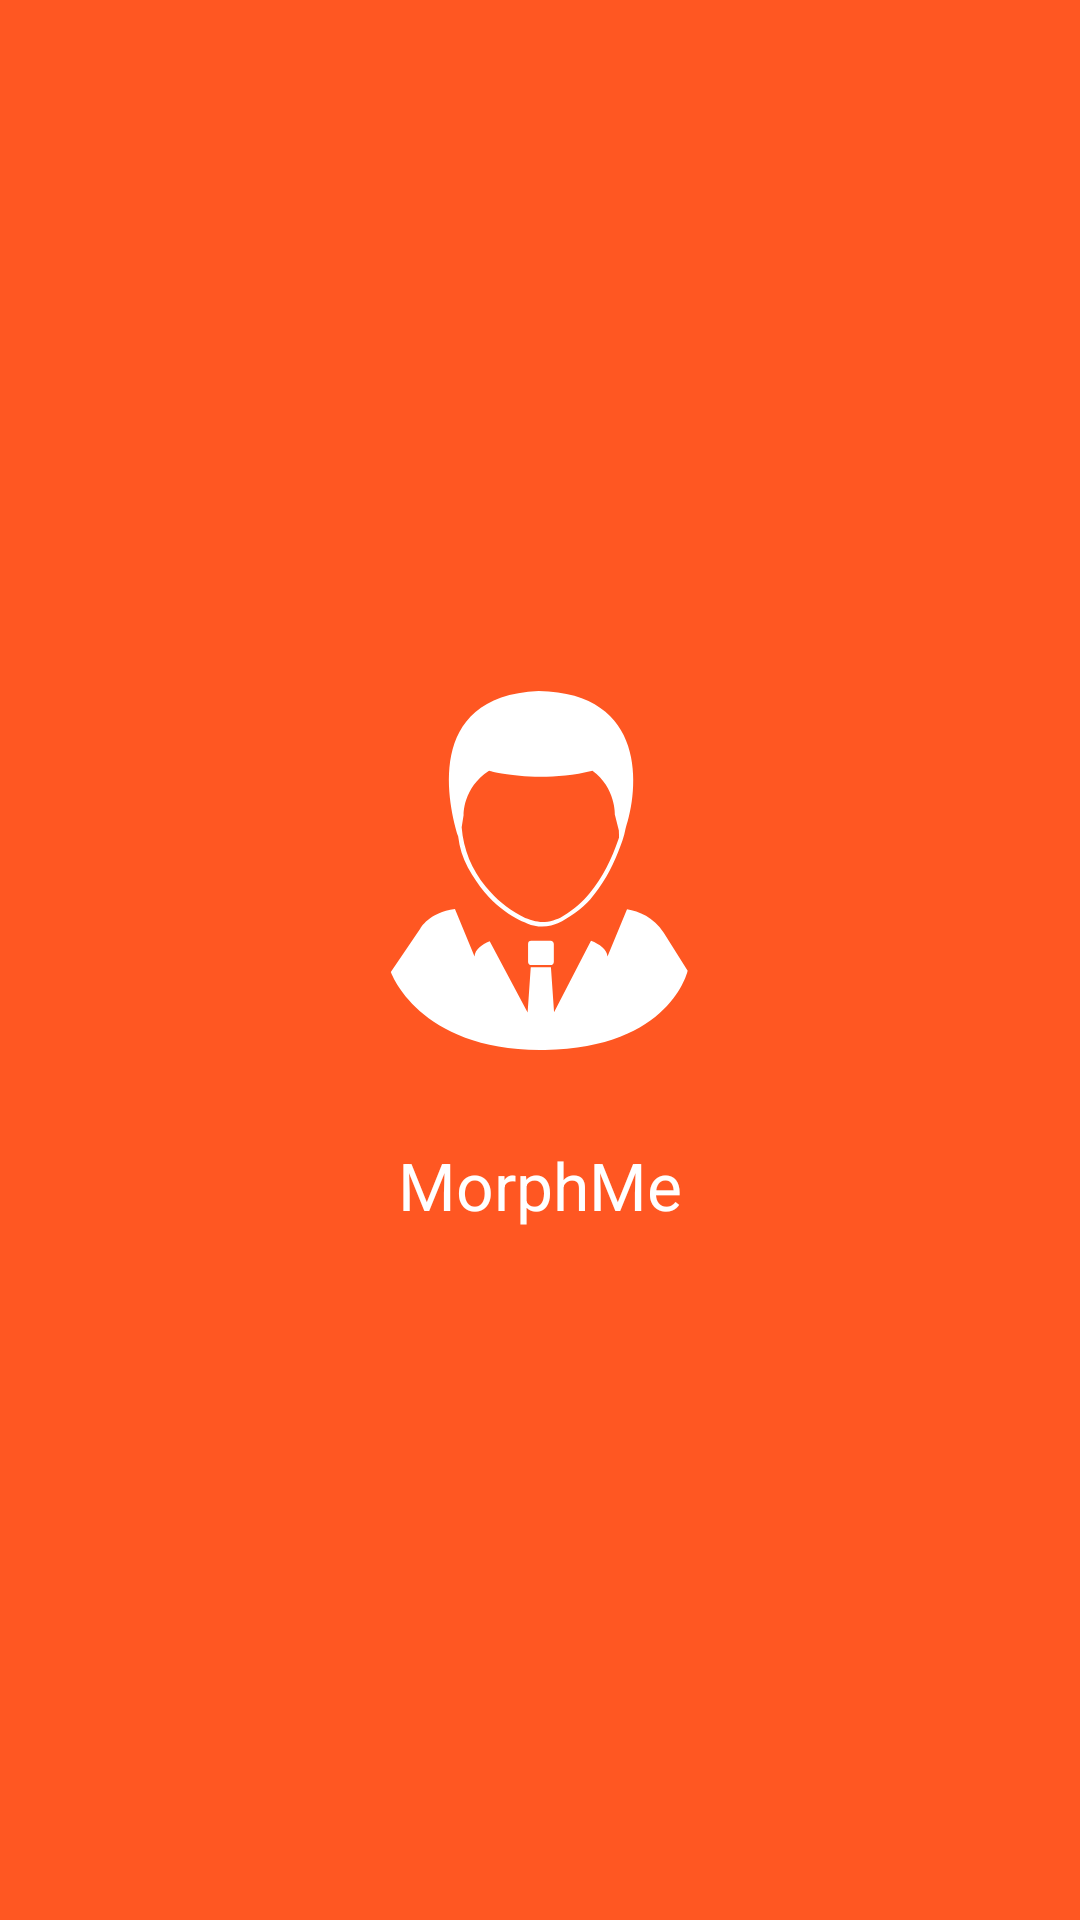

Where to tap for icons on this 1080×1920 app screen, as (x,y):
head: (539,870)
